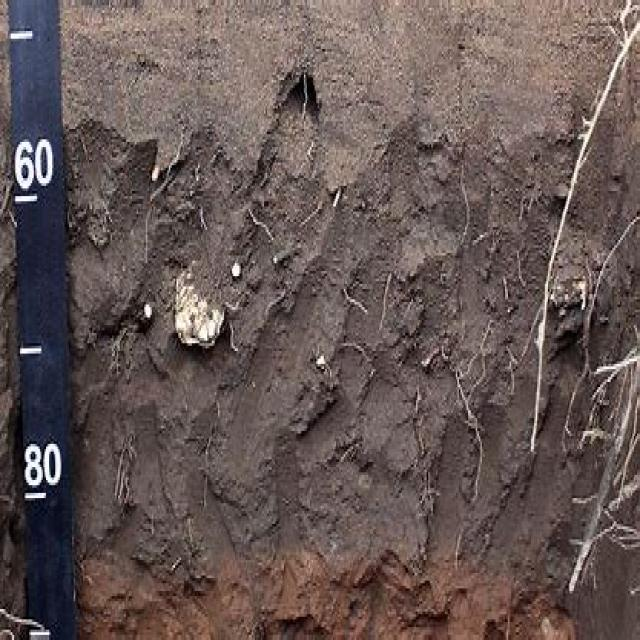Alluvial Soil: (95, 81, 528, 612)
